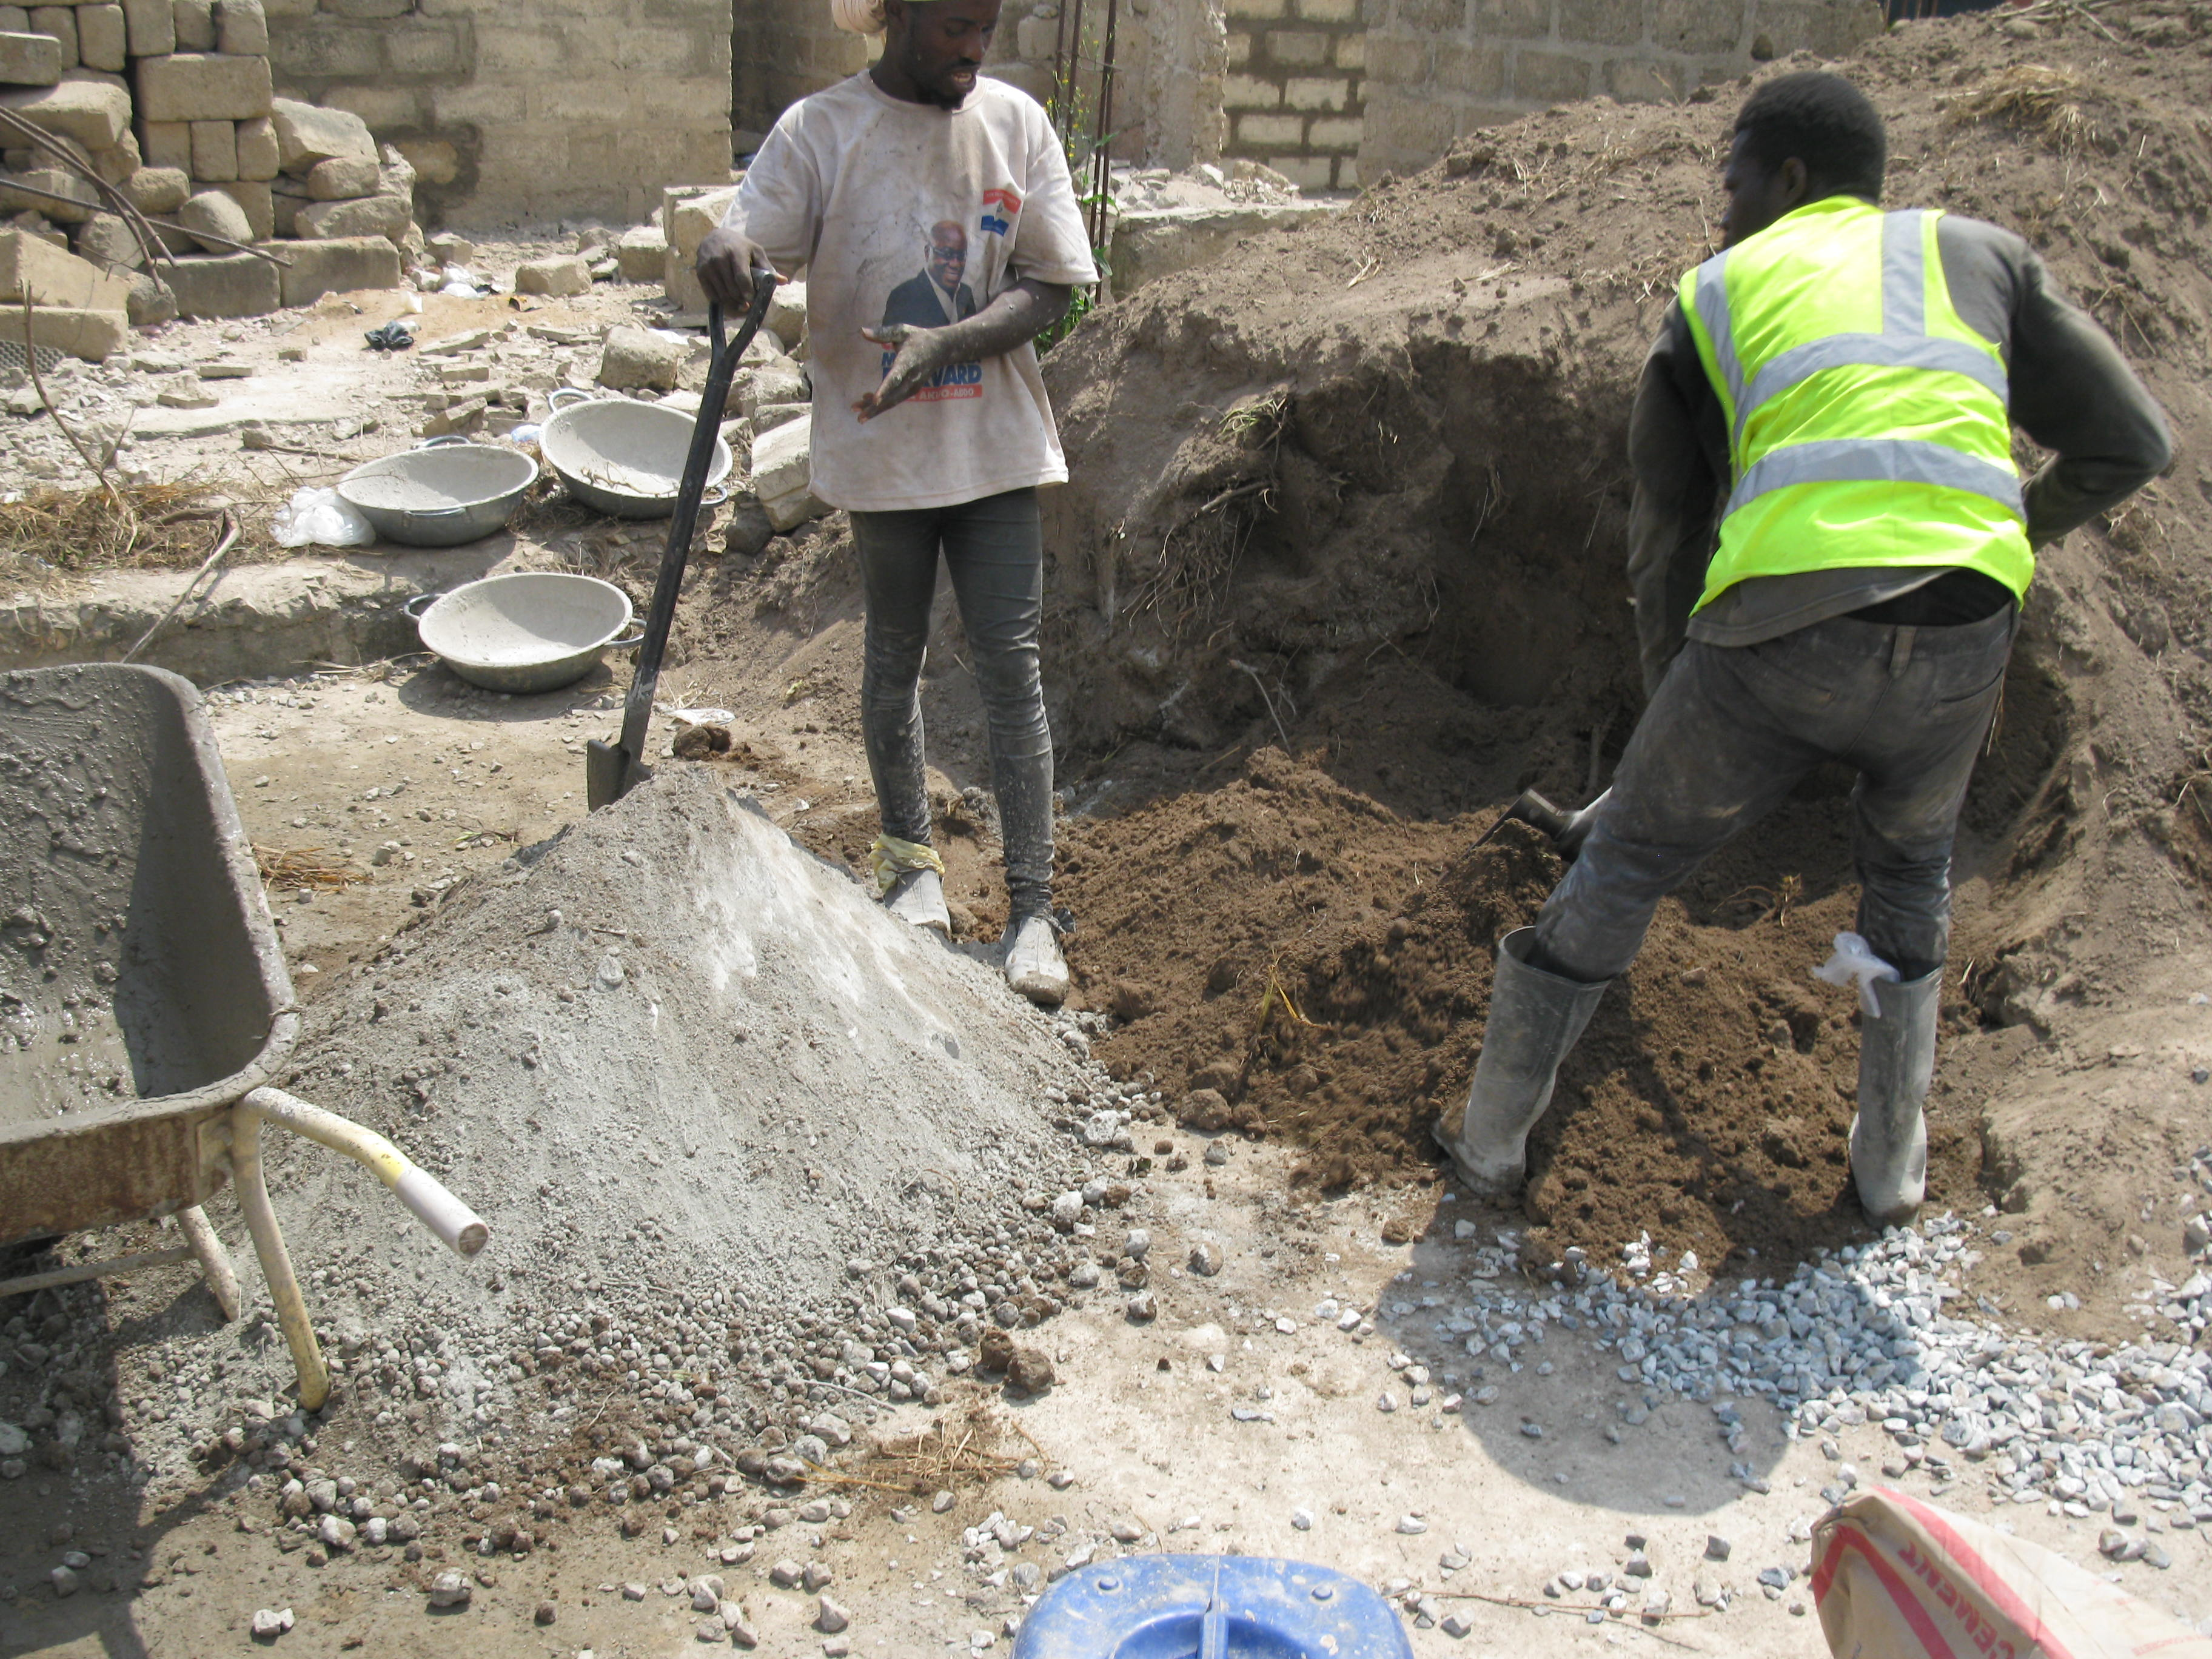Person: (1422, 76, 2114, 1204), (649, 7, 1103, 1003)
Vest: (1660, 74, 2043, 628)
